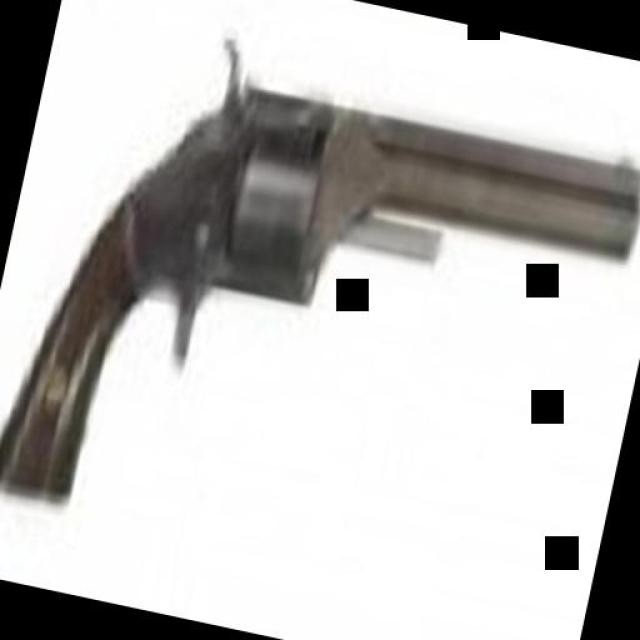gun: (0, 6, 640, 602)
